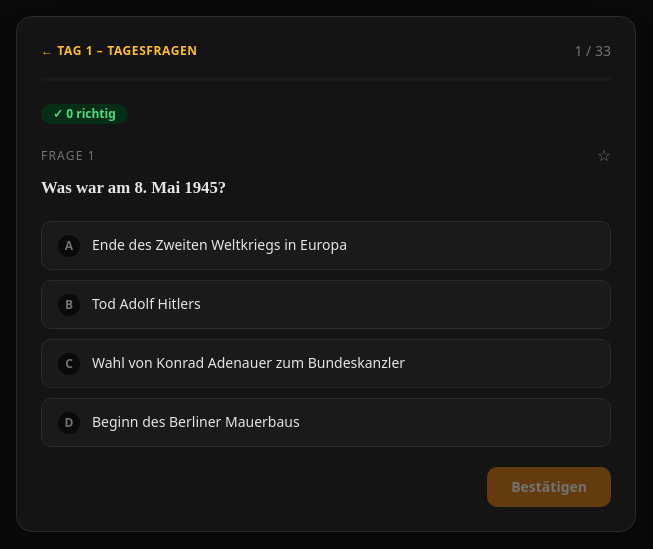
QuizScreen › fills the star when clicking it
Click the button "☆": (604, 156) [597,144,611,168]
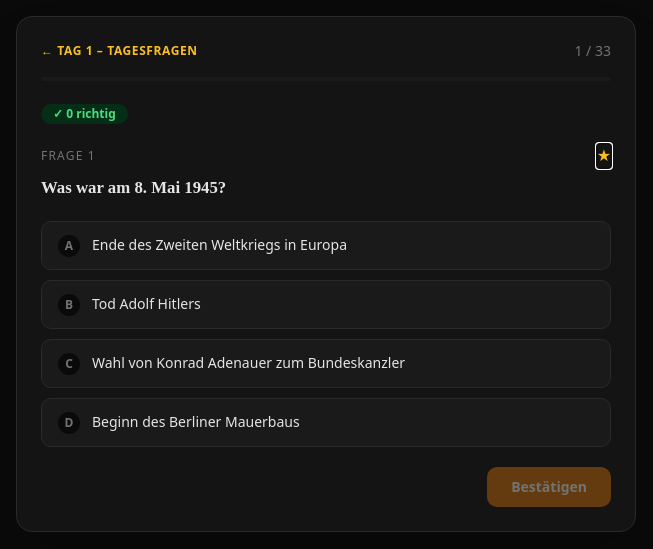
Expected: the button "★" is shown, [597,144,611,168]
